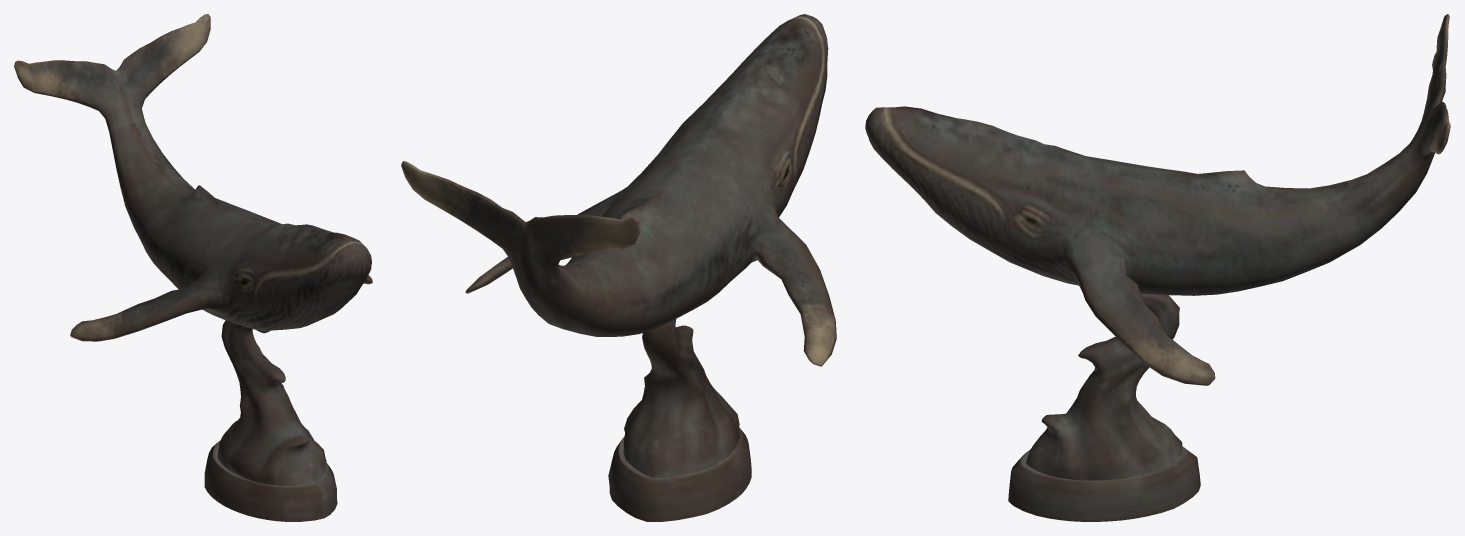
File: ph_bronze_whale_statue.glb
The picture shows the model from 3 angles, left to right: view 1: azimuth 30°, elevation 25°; view 2: azimuth 150°, elevation 25°; view 3: azimuth 270°, elevation 25°; orthographic projection. The views are drawn at different scales.
Visible parts, largest first — view 1: bronze_whale_statue; view 2: bronze_whale_statue; view 3: bronze_whale_statue.
Boxes of the visible parts, <box> form: bronze_whale_statue: <box>14,14,372,521</box>; bronze_whale_statue: <box>401,14,836,521</box>; bronze_whale_statue: <box>865,14,1450,521</box>.
Size of the model in its own units: 0.932 by 1.07 by 1.37.
Materials: 1 (1 with a texture image).
